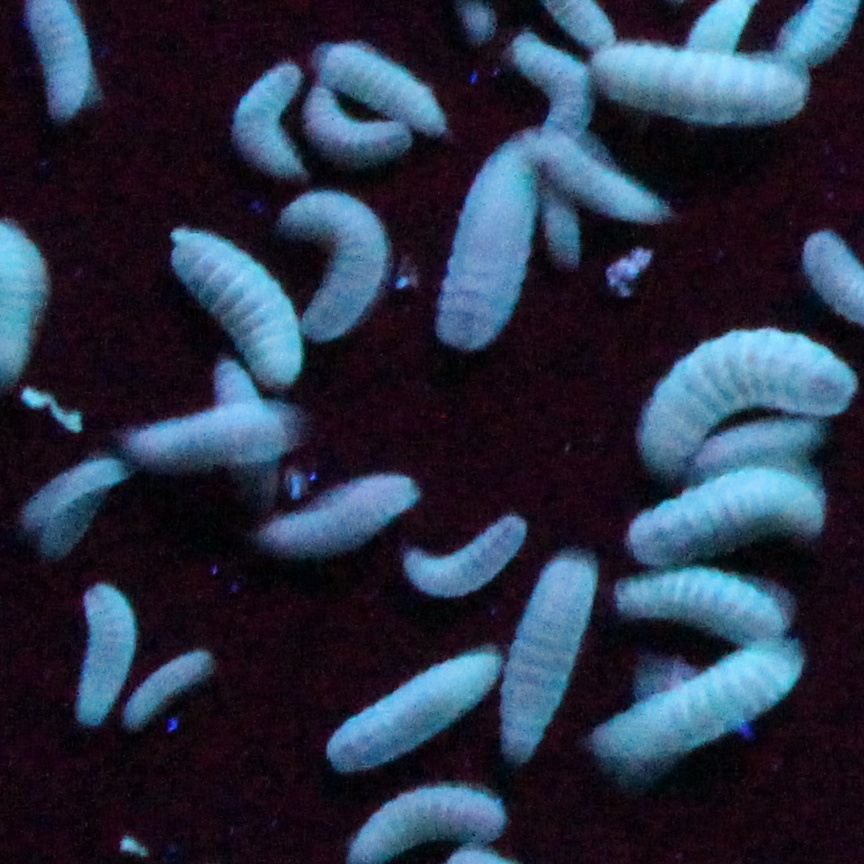larve: (625, 340, 856, 457), (593, 657, 807, 777), (479, 551, 582, 760), (319, 651, 487, 774), (439, 137, 530, 337), (162, 234, 285, 368), (310, 34, 462, 134), (619, 480, 822, 554), (279, 205, 390, 334), (602, 51, 819, 114), (527, 125, 670, 214), (267, 474, 405, 562), (602, 562, 765, 634), (210, 51, 305, 174), (67, 577, 133, 731), (133, 408, 313, 462), (399, 528, 539, 588), (39, 457, 119, 562), (119, 657, 222, 725), (699, 414, 825, 465)
